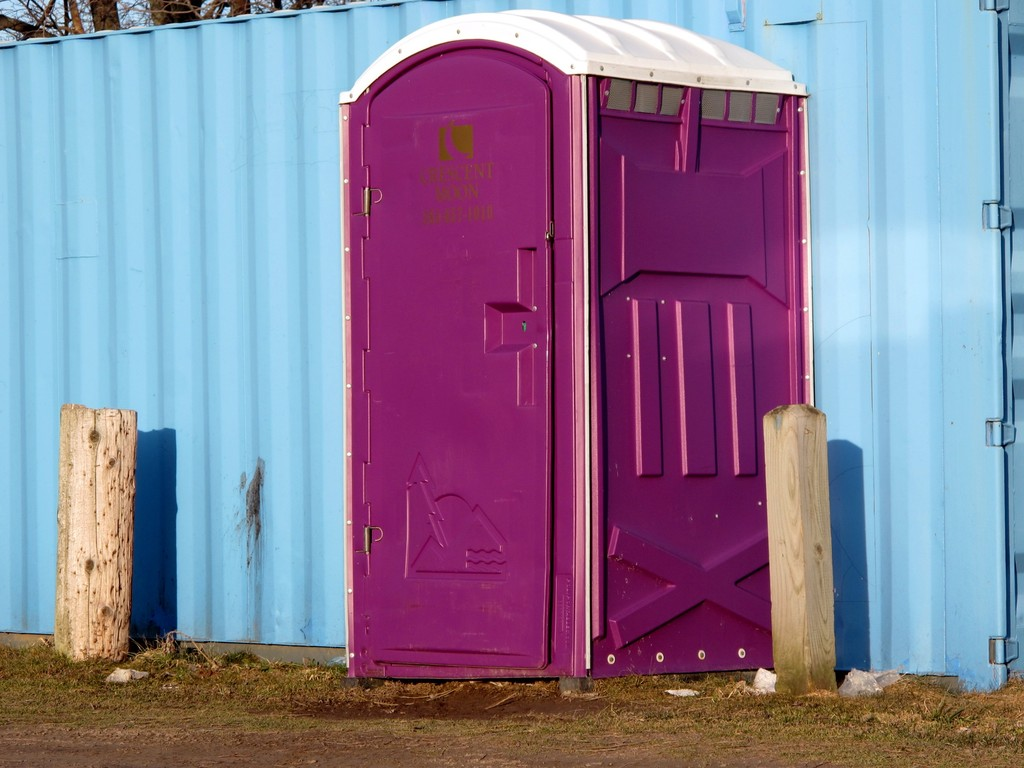door: (370, 102, 547, 665)
